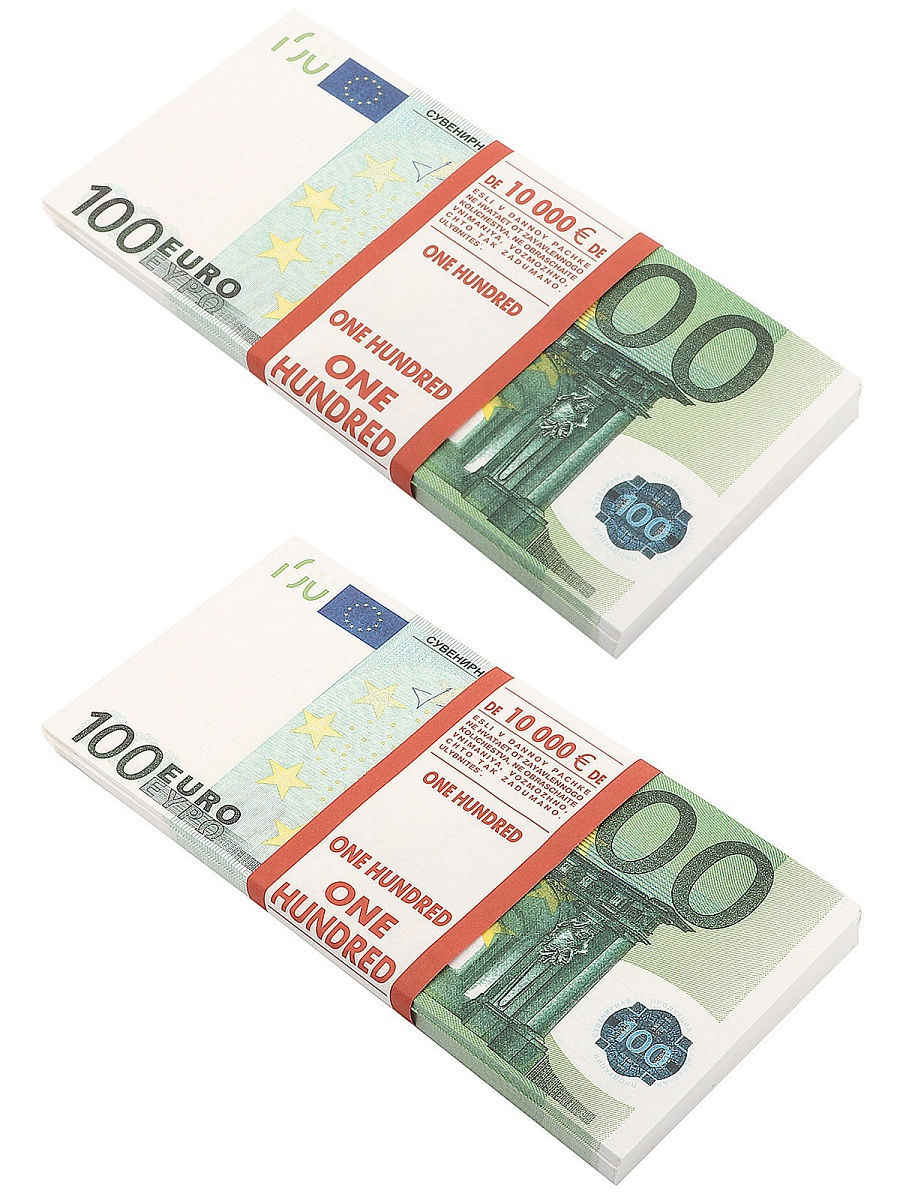cash: (40, 9, 863, 632), (44, 537, 859, 1155)
